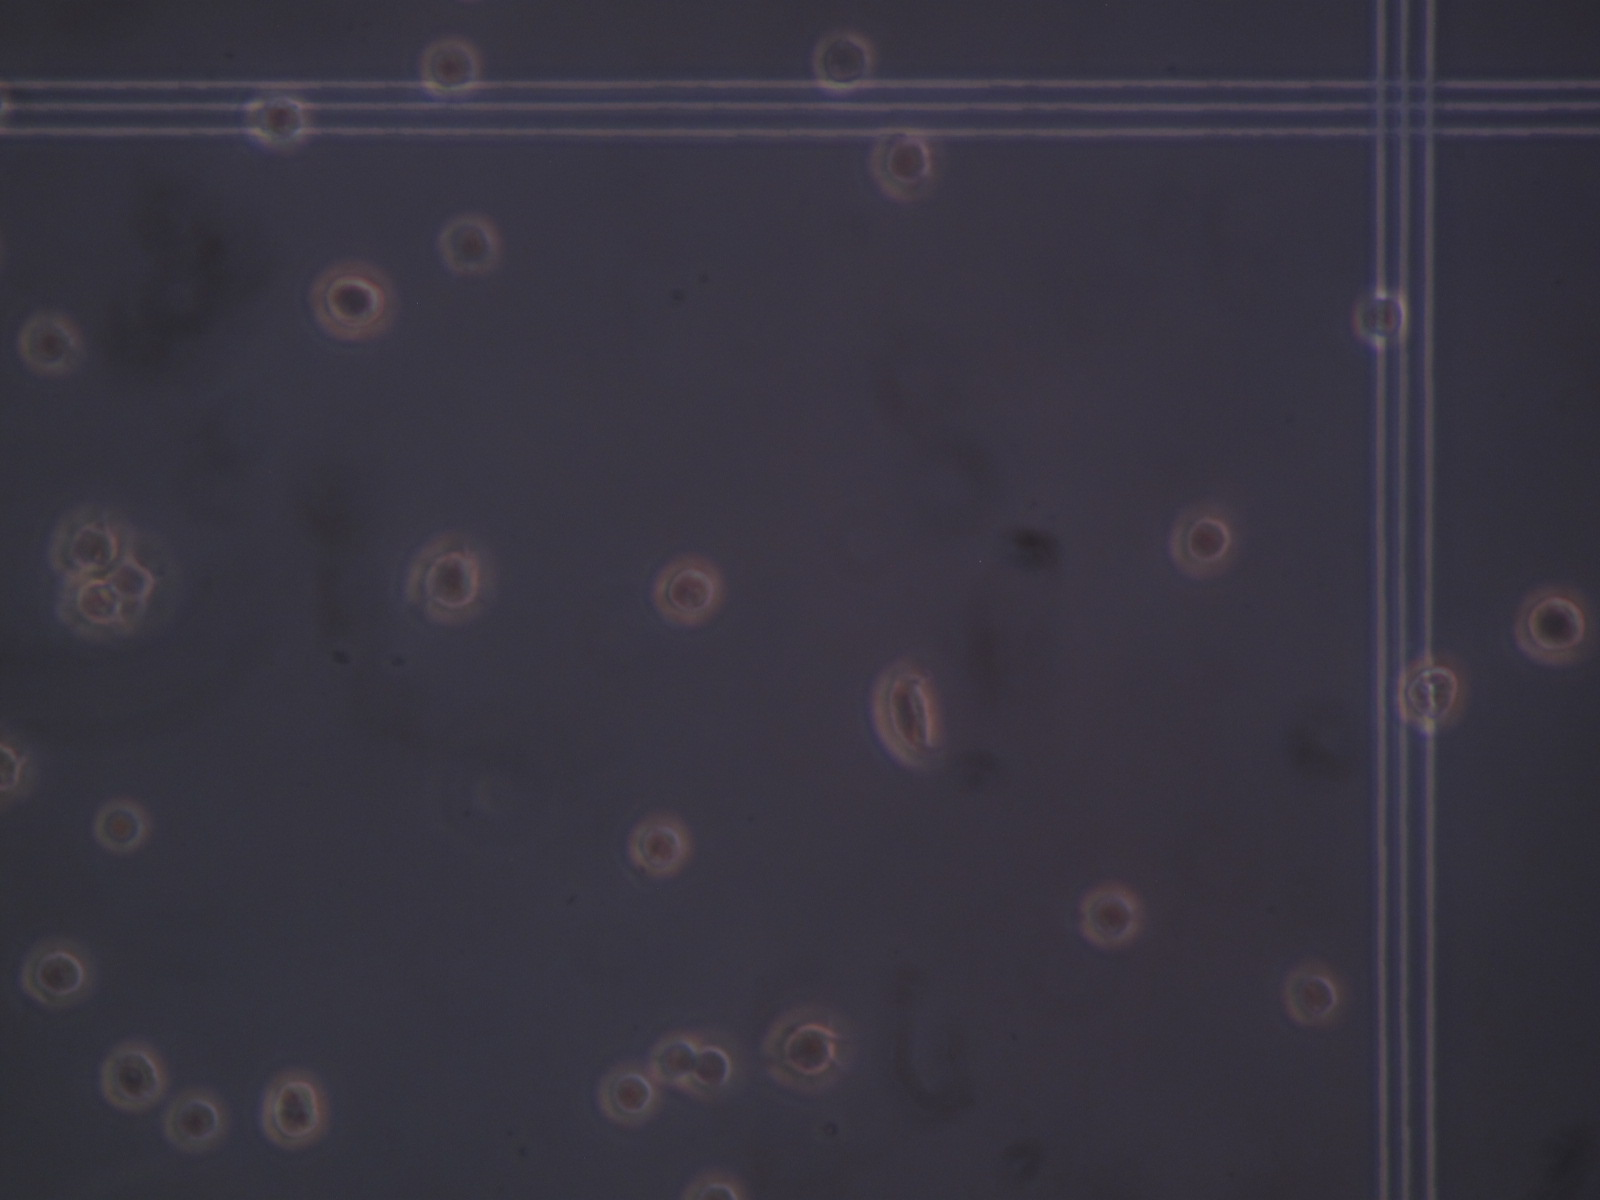hemo: (404, 533, 491, 625), (307, 258, 397, 342), (871, 662, 939, 765), (762, 1007, 842, 1094), (1514, 584, 1595, 666), (1395, 650, 1468, 734), (47, 508, 125, 579), (261, 1068, 329, 1148), (653, 555, 722, 626), (1169, 504, 1236, 579), (868, 127, 934, 203), (55, 575, 129, 642), (20, 942, 88, 1008), (100, 1044, 165, 1111), (811, 32, 876, 95), (418, 37, 483, 98), (688, 1031, 746, 1099), (437, 213, 499, 275), (244, 92, 309, 151), (164, 1092, 226, 1152), (16, 313, 77, 374), (627, 816, 689, 876), (1078, 886, 1139, 948), (596, 1068, 658, 1124), (1283, 967, 1339, 1026), (1352, 289, 1409, 347), (94, 800, 147, 852), (650, 1034, 697, 1087), (1, 732, 29, 814), (108, 558, 155, 606), (679, 1172, 745, 1200)
